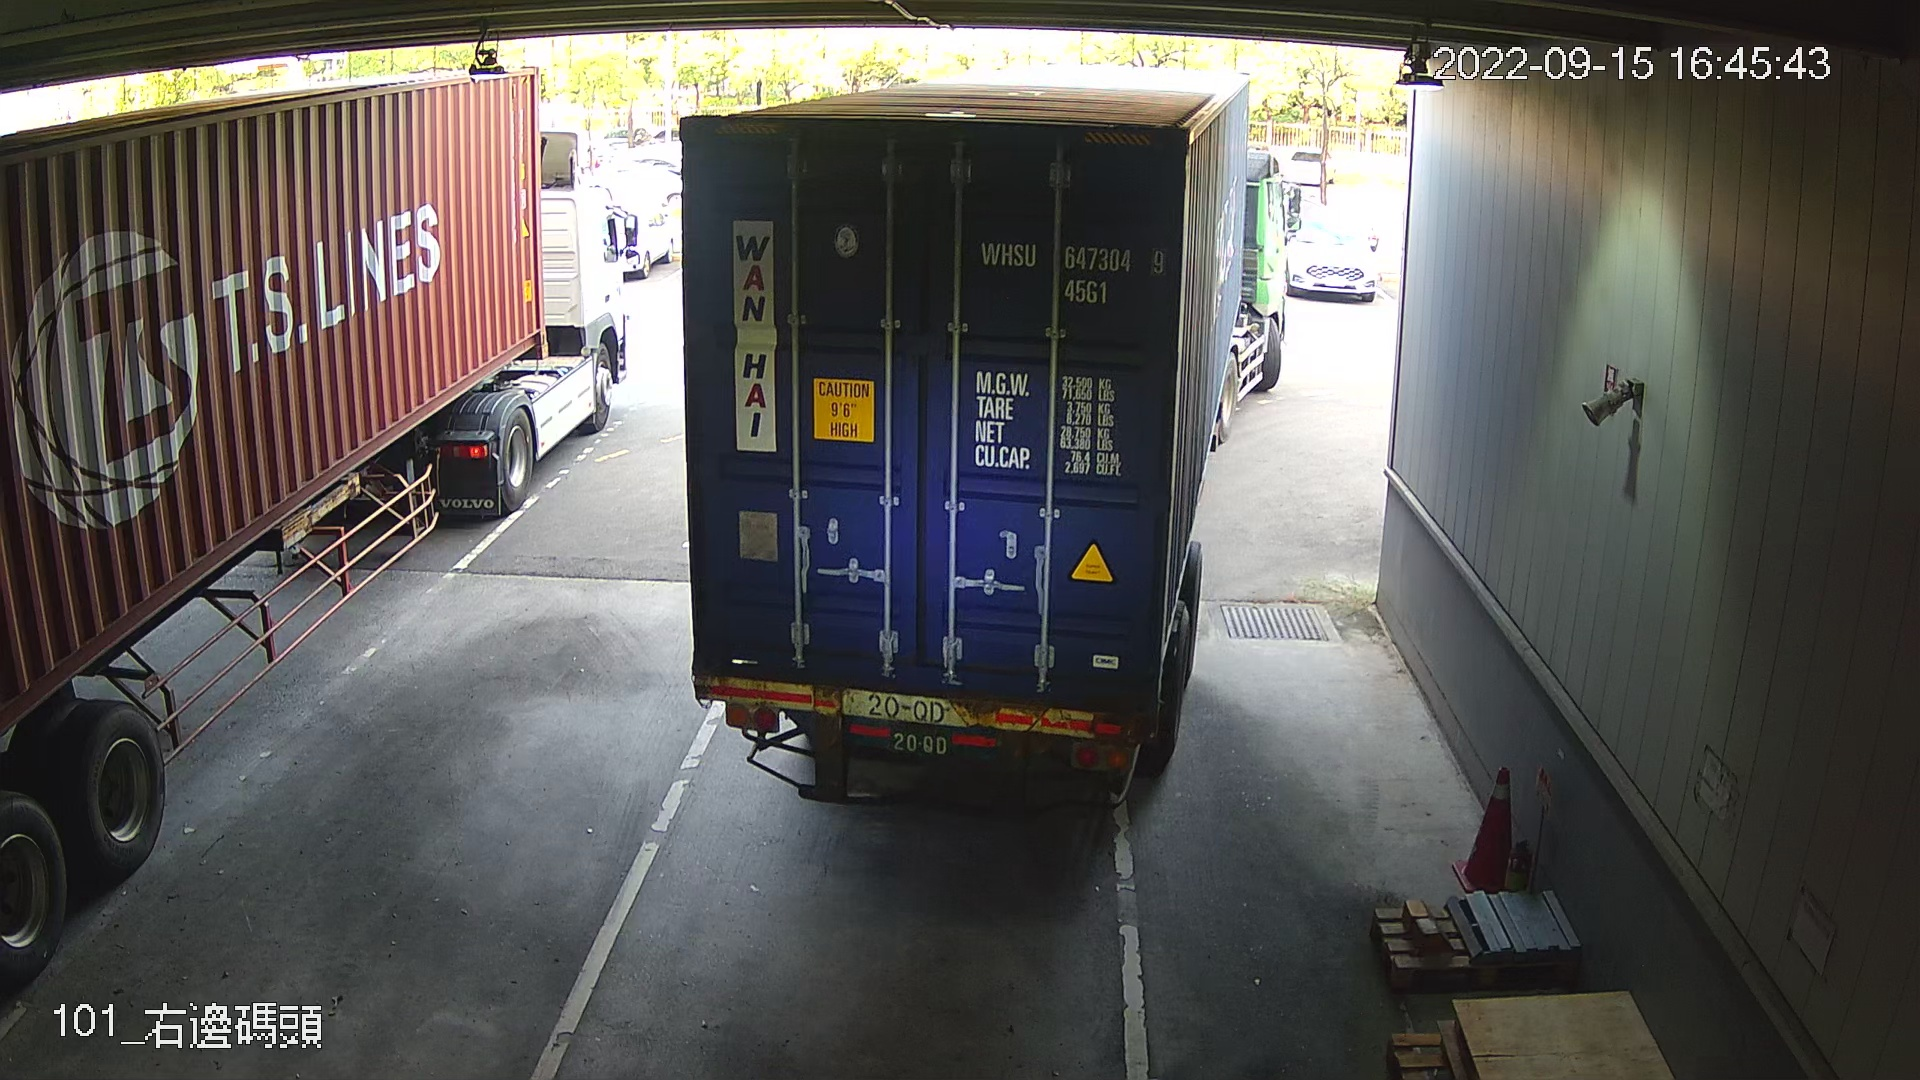container: (973, 233, 1172, 316)
